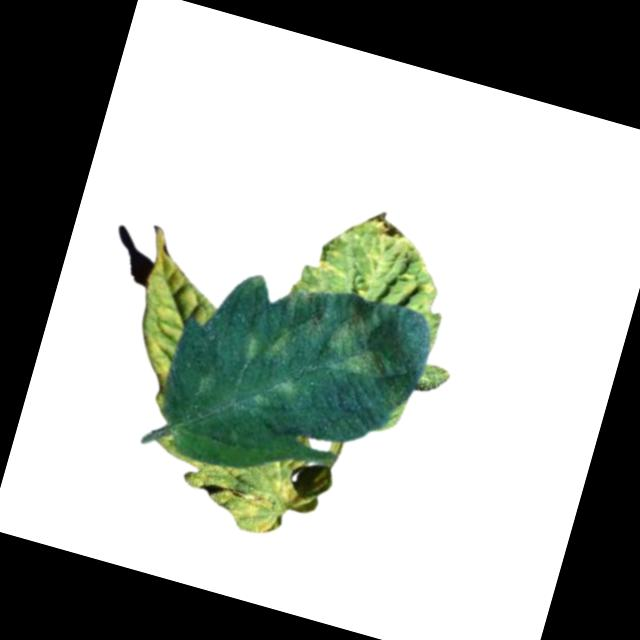Leaf_Mold: (121, 234, 232, 396), (312, 202, 453, 304), (212, 462, 309, 544), (320, 305, 411, 387)
